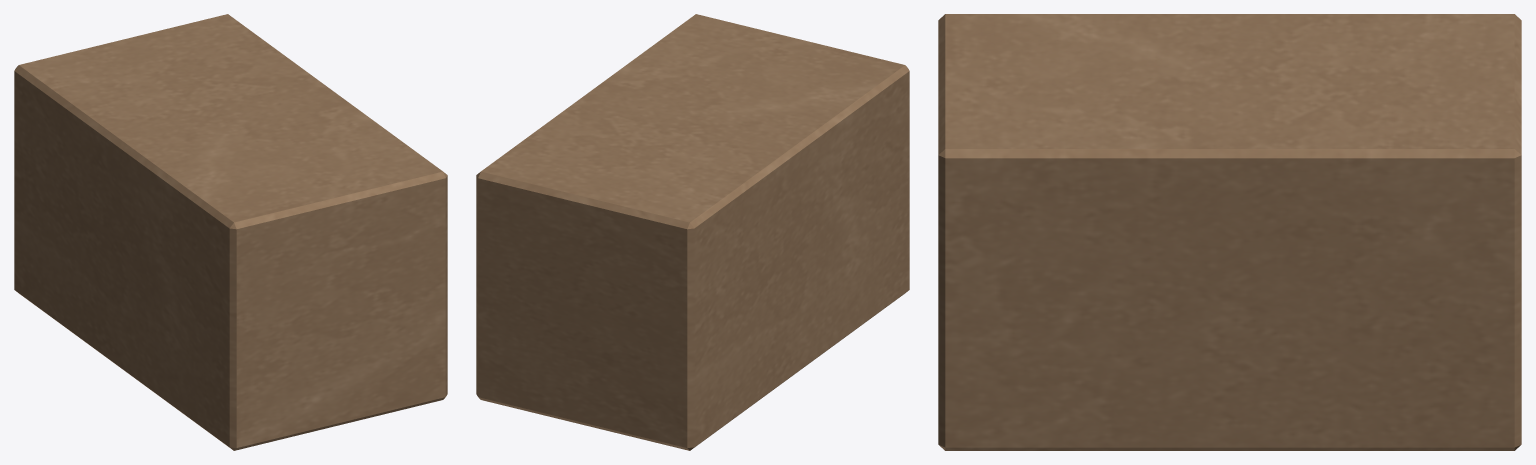
The model's file is Brick_Broken.FBX.
3 renders of one model, left to right at view 1: azimuth 30°, elevation 25°; view 2: azimuth 150°, elevation 25°; view 3: azimuth 270°, elevation 25°, orthographic. The views are drawn at different scales.
Visible parts, largest first — view 1: Brick_Broken_h1, Brick_01, Brick_Broken_chunk; view 2: Brick_01, Brick_Broken_h1, Brick_Broken_chunk; view 3: Brick_Broken_h1, Brick_01, Brick_Broken_chunk.
Part boxes in pixels (x1,y1,x2,y2): Brick_Broken_h1: (110,59,447,450); Brick_01: (14,14,288,382); Brick_Broken_chunk: (99,92,200,223); Brick_01: (476,126,821,450); Brick_Broken_h1: (542,14,909,358); Brick_Broken_chunk: (654,132,818,237); Brick_Broken_h1: (938,14,1351,450); Brick_01: (1191,14,1521,450); Brick_Broken_chunk: (1190,14,1321,84).
Size of the model in its own units: 24 by 24 by 42.
